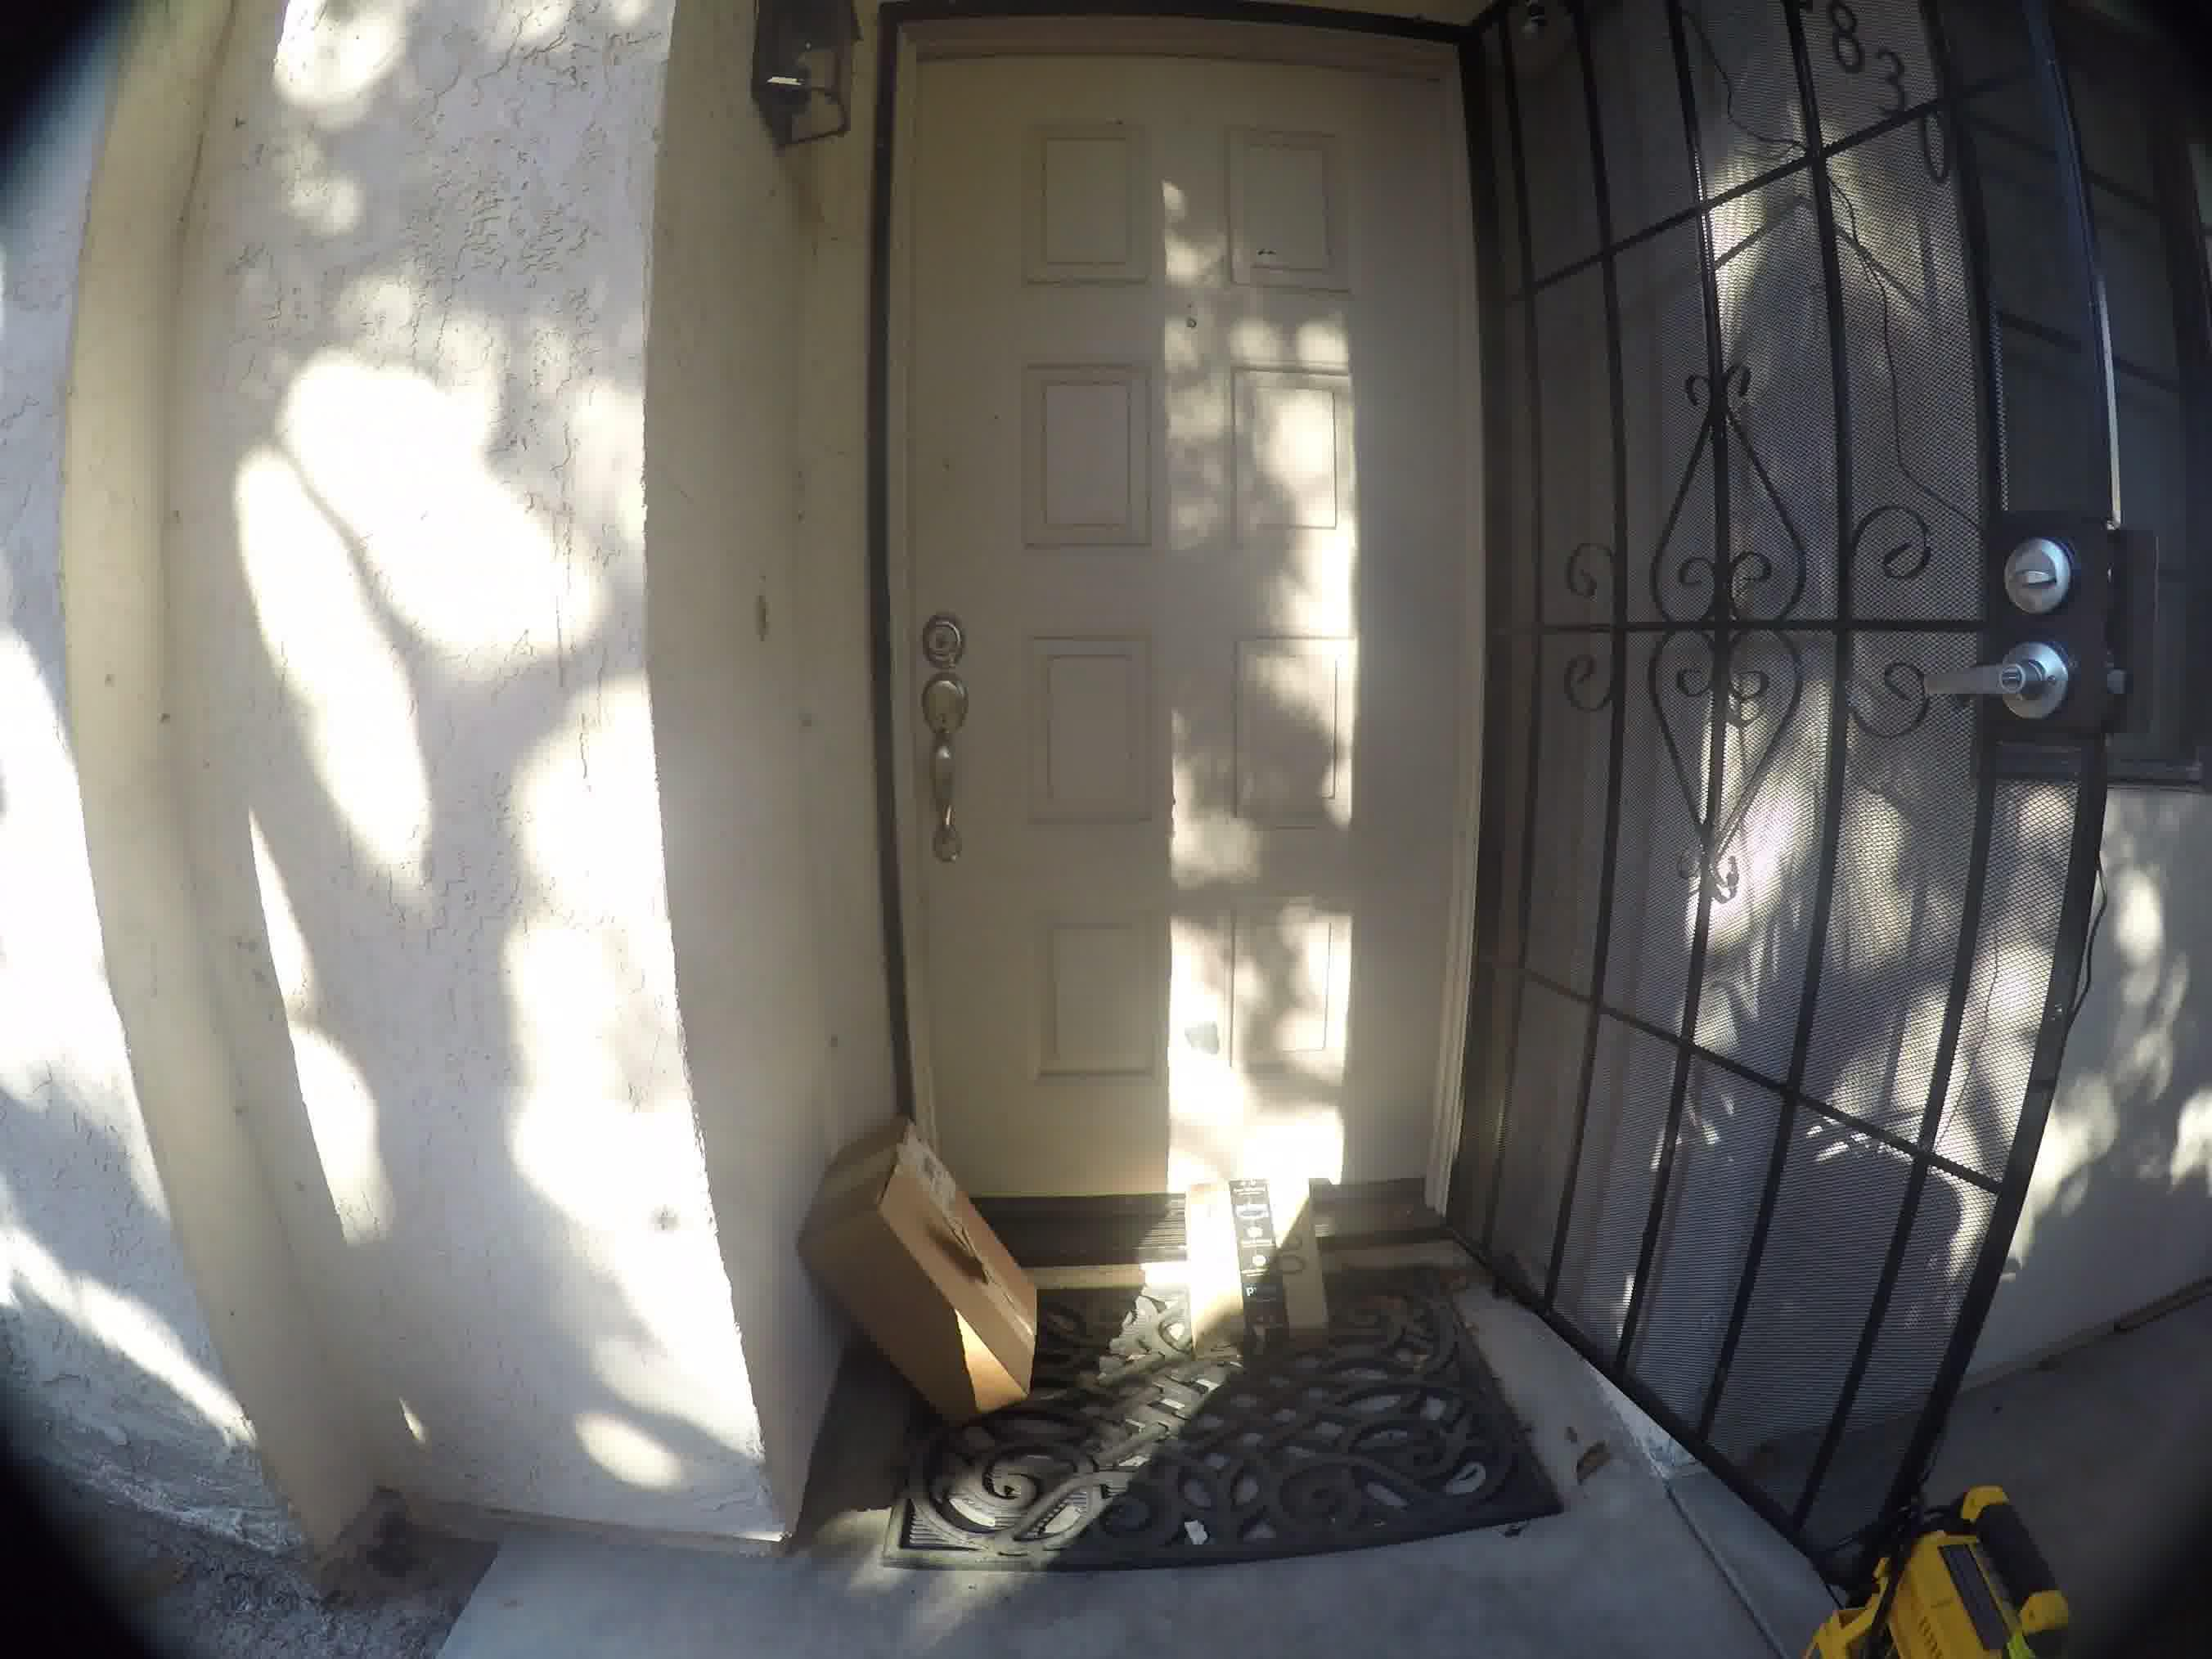box: (794, 1079, 1049, 1403), (1155, 1155, 1357, 1387)
